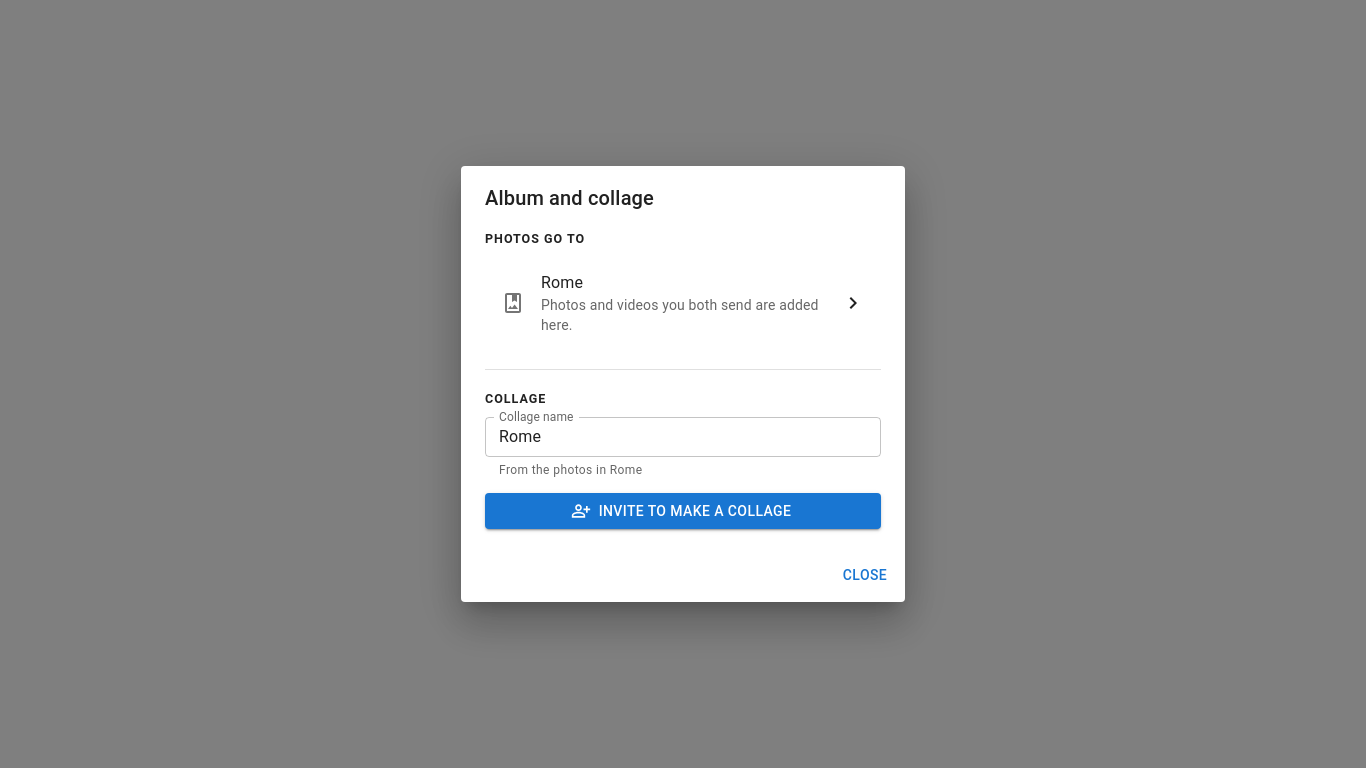
it: AlbumCollageDialog › shows the server’s own words for a request it turned down
Step 1. Click the button "Invite to make a collage" → x=683, y=511, box [485,493,881,529]
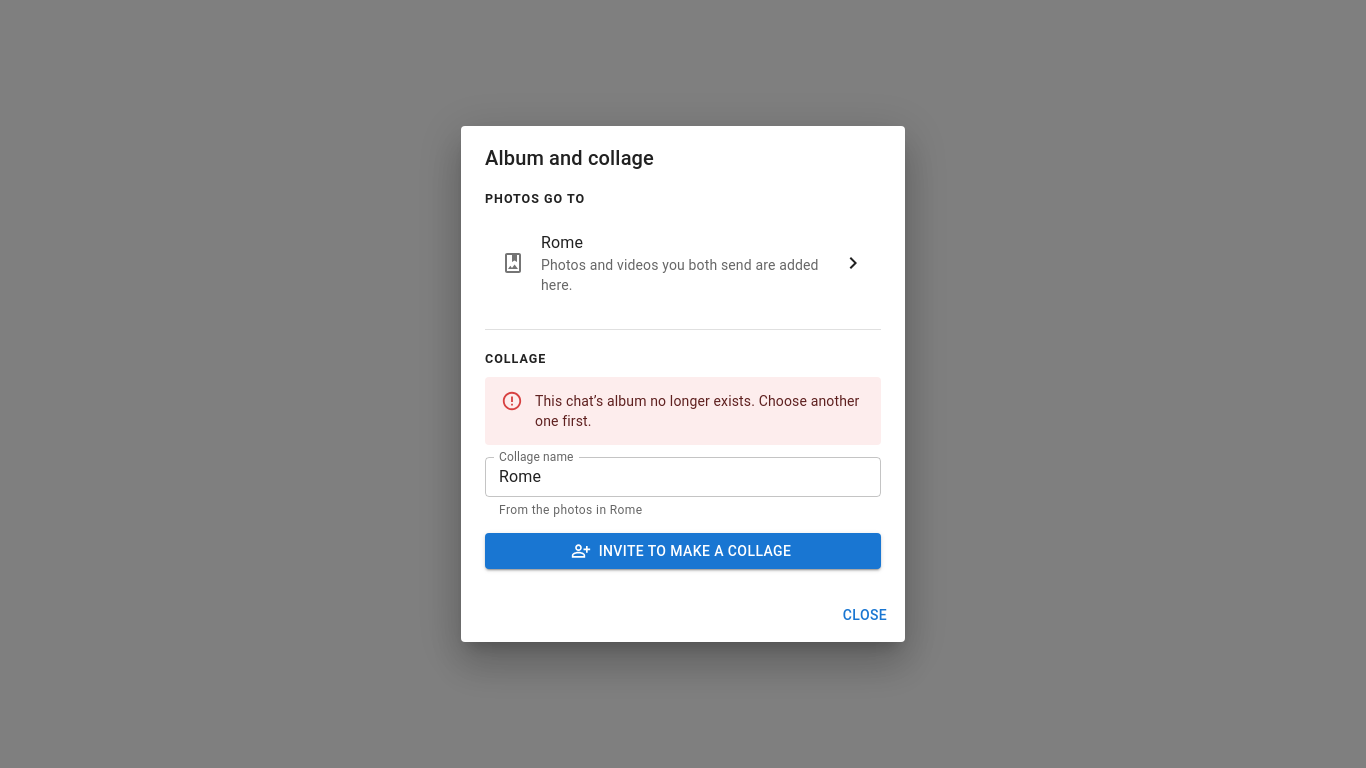
expect the text "album no longer exists" is shown: met, box [535,393,860,429]
